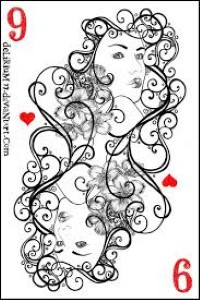NineOfHearts: (4, 4, 195, 296)
